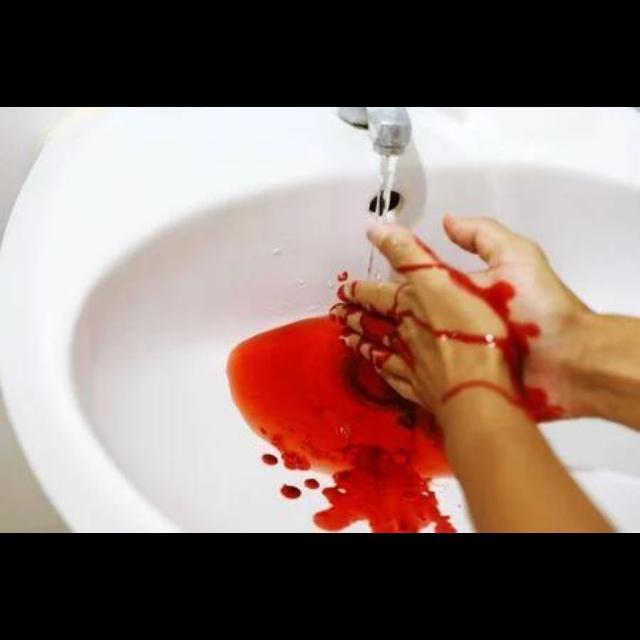blood: (228, 317, 457, 534), (398, 238, 566, 423), (331, 286, 415, 369), (282, 489, 301, 500), (262, 457, 277, 466), (304, 481, 319, 490)
